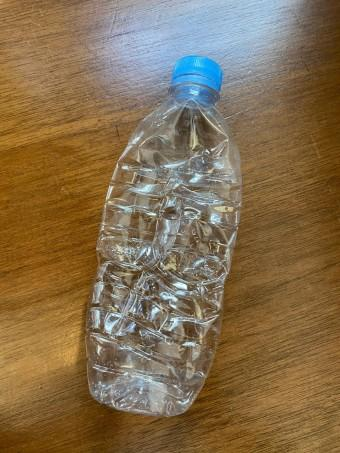plastic_bottle: (78, 55, 245, 404)
